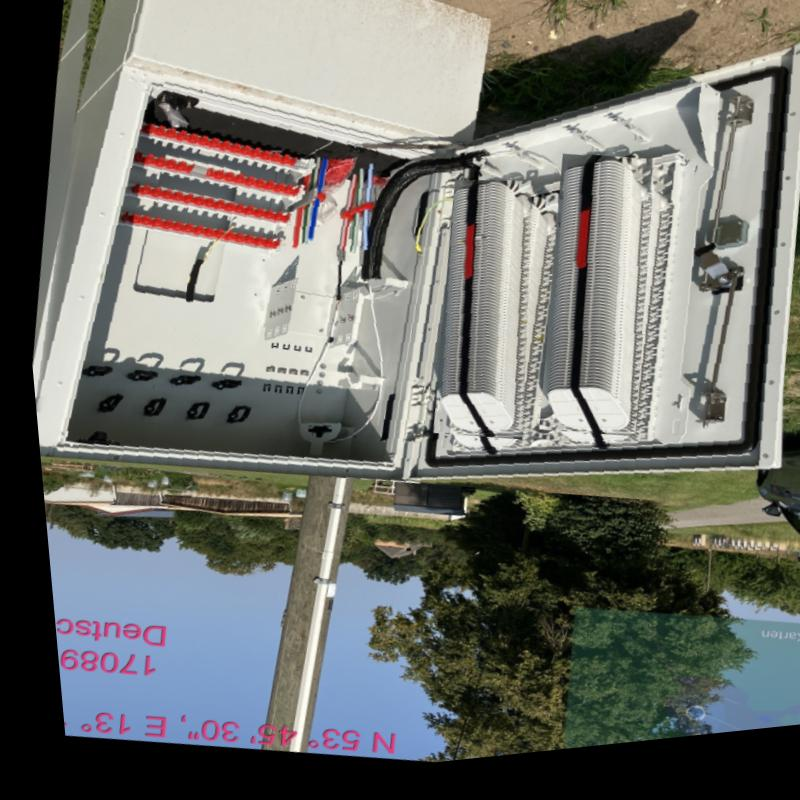NT-Gehause: (27, 0, 800, 491)
Spleiskassetten: (533, 171, 641, 445), (427, 190, 528, 446)
